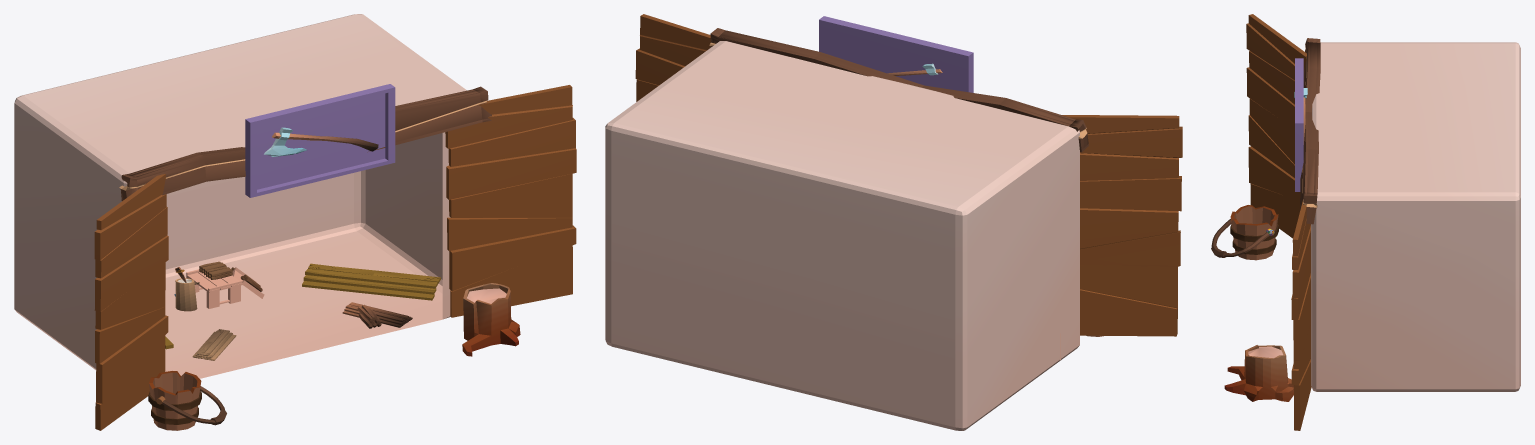
The model's file is bolum_sonu_1.fbx.
3 renders of one model, left to right at view 1: azimuth 30°, elevation 25°; view 2: azimuth 150°, elevation 25°; view 3: azimuth 270°, elevation 25°, orthographic. The views are drawn at different scales.
Parts seen in each view (by area): view 1: son_Nölüm; view 2: son_Nölüm; view 3: son_Nölüm.
Boxes of the visible parts, x1=… form: son_Nölüm: x1=14, y1=14, x2=576, y2=430; son_Nölüm: x1=605, y1=14, x2=1182, y2=430; son_Nölüm: x1=1211, y1=14, x2=1520, y2=430.
Size of the model in its own units: 64114 by 31655 by 37344.
1 material, 1 textured.
